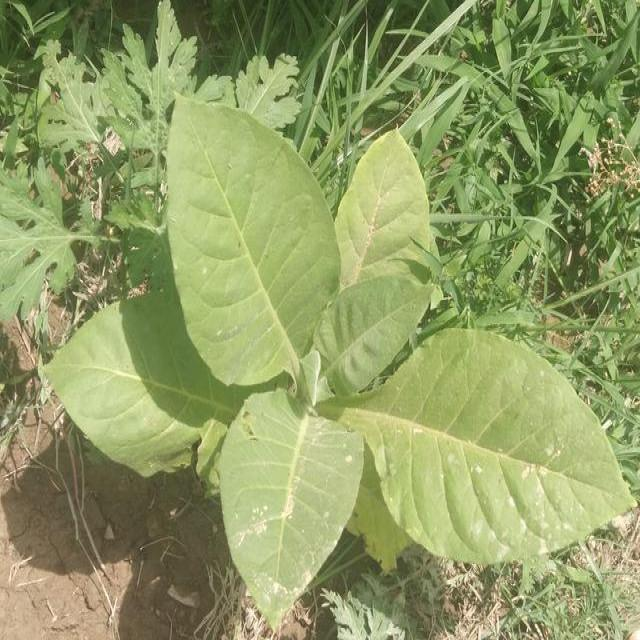crop: (45, 89, 639, 640)
